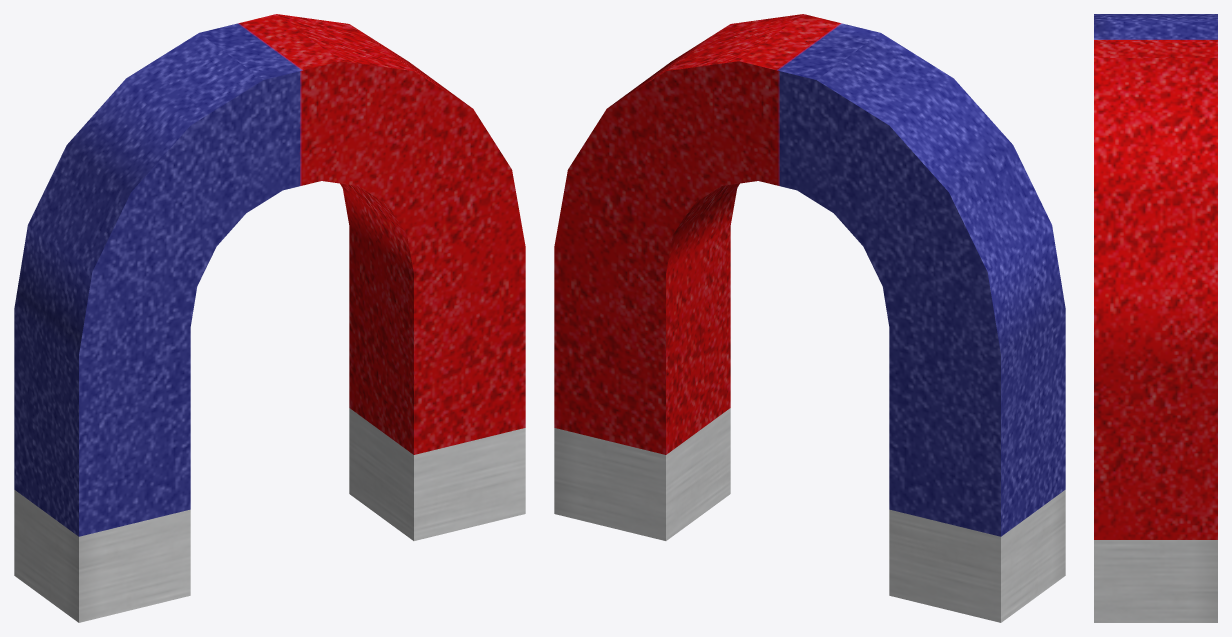
3 renders of one model, left to right at view 1: azimuth 30°, elevation 25°; view 2: azimuth 150°, elevation 25°; view 3: azimuth 270°, elevation 25°, orthographic. The views are drawn at different scales.
Visible parts, largest first — view 1: smMAT0110009; view 2: smMAT0110009; view 3: smMAT0110009.
Part boxes in pixels (left/top/right/bottom): smMAT0110009: left=14, top=14, right=525, bottom=622; smMAT0110009: left=554, top=14, right=1065, bottom=622; smMAT0110009: left=1094, top=14, right=1217, bottom=622.
Bounding box in the file's own units: 13.11 × 13.97 × 3.28.
